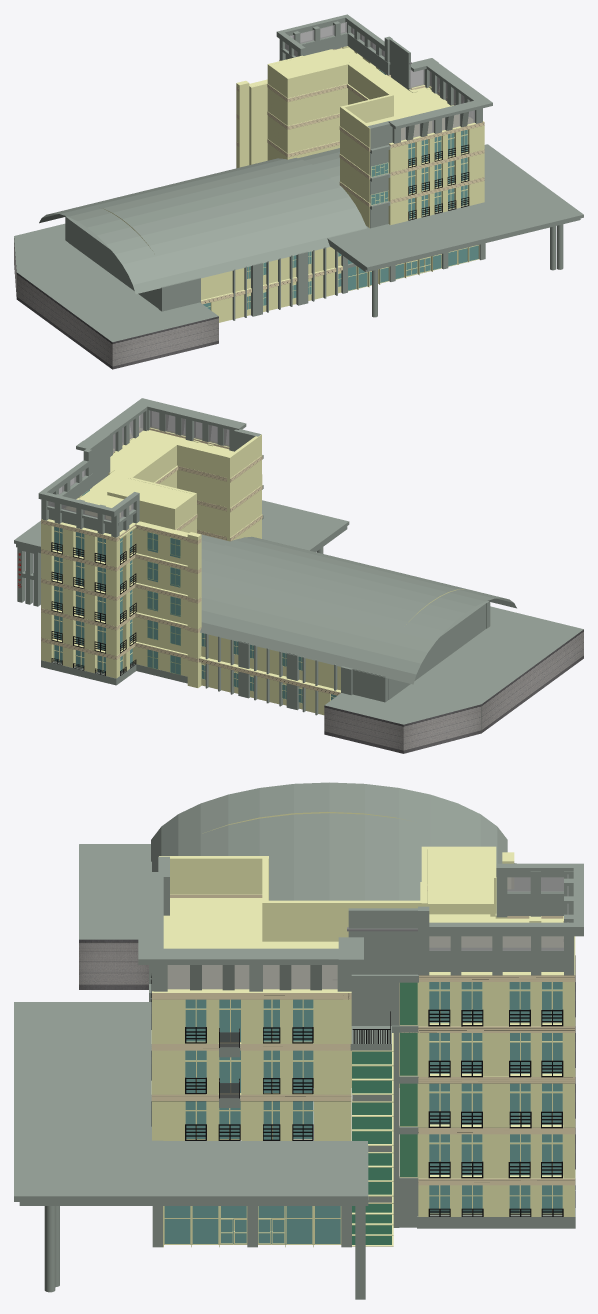
File: 學生活動中心1.fbx
3 renders of one model, top to bottom at view 1: azimuth 30°, elevation 25°; view 2: azimuth 150°, elevation 25°; view 3: azimuth 270°, elevation 25°, orthographic. The views are drawn at different scales.
Visible parts, largest first — view 1: Cylinder.004, Cube.241, Cube.767, Cube.224, Cube.792, Cube.768, Cube.791, Cube.240, Cube.795, Cube.295, Cube.223, Cube.169 (+35 smaller); view 2: Cylinder.004, Cube.767, Cube.768, Cube.192, Cube.766, Cube.793, Cube.791, Cube.241, Cube.151, Cube.339, Cube.169, Cube.161 (+33 smaller); view 3: Cube.241, Cylinder.004, Cube.240, Cube.153, Cube.224, Cube.932, Cube.152, Cube.794, Cube.237, Cube.928, Cube.791, Cube.440 (+67 smaller).
Boxes of the visible parts, <box> form: Cylinder.004: <box>39,157,366,294</box>; Cube.241: <box>327,185,583,270</box>; Cube.767: <box>16,269,143,368</box>; Cube.224: <box>95,302,218,369</box>; Cube.792: <box>286,62,350,159</box>; Cube.768: <box>27,241,168,323</box>; Cube.791: <box>340,106,370,228</box>; Cube.240: <box>484,144,542,198</box>; Cube.795: <box>267,63,288,160</box>; Cube.295: <box>388,144,408,225</box>; Cube.223: <box>68,224,158,308</box>; Cube.169: <box>236,80,249,168</box>; Cylinder.004: <box>200,536,516,684</box>; Cube.767: <box>447,621,583,733</box>; Cube.768: <box>386,622,527,709</box>; Cube.192: <box>324,693,422,753</box>; Cube.766: <box>395,690,481,753</box>; Cube.793: <box>174,443,230,536</box>; Cube.791: <box>227,434,261,541</box>; Cube.241: <box>262,500,349,551</box>; Cube.151: <box>54,526,105,672</box>; Cube.339: <box>145,523,184,672</box>; Cube.169: <box>187,532,201,687</box>; Cube.161: <box>106,539,119,678</box>; Cube.241: <box>14,1002,163,1196</box>; Cylinder.004: <box>151,782,507,1001</box>; Cube.240: <box>14,1141,367,1201</box>; Cube.153: <box>461,982,562,1175</box>; Cube.224: <box>79,844,150,989</box>; Cube.932: <box>163,898,266,988</box>; Cube.152: <box>483,982,509,1216</box>; Cube.794: <box>268,900,421,1087</box>; Cube.237: <box>348,908,417,974</box>; Cube.928: <box>428,849,493,909</box>; Cube.791: <box>159,856,268,900</box>; Cube.440: <box>144,948,355,964</box>.
Bounding box in the file's own units: 12151 × 4489 × 7185.
21 materials, 11 textured.
